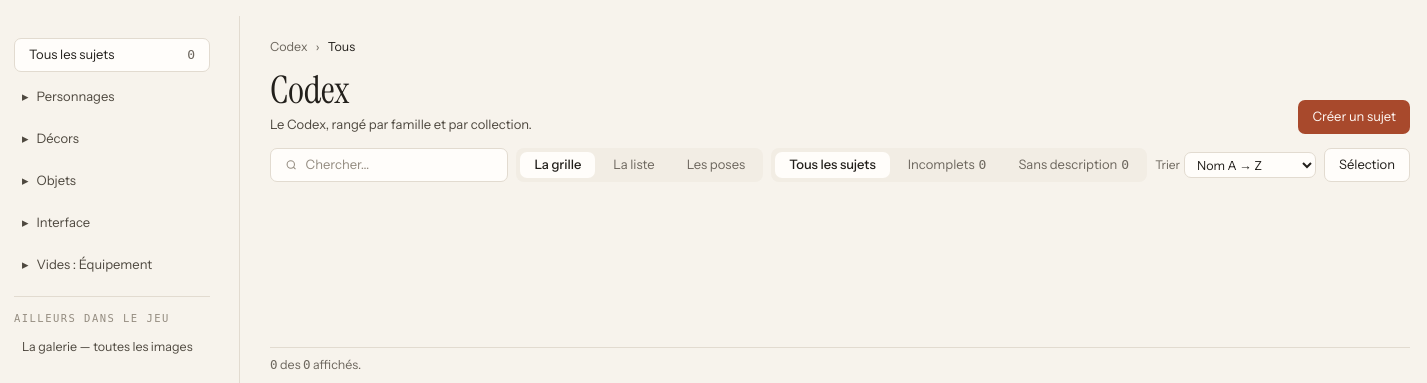
L’atelier unifié · bibliothèque et fabrications réelles › ne compte pas une page comme toute la famille et charge la suite
(page scrolled)
Click the tab "La liste" at (634,165), box [599,152,669,178]
(page scrolled)
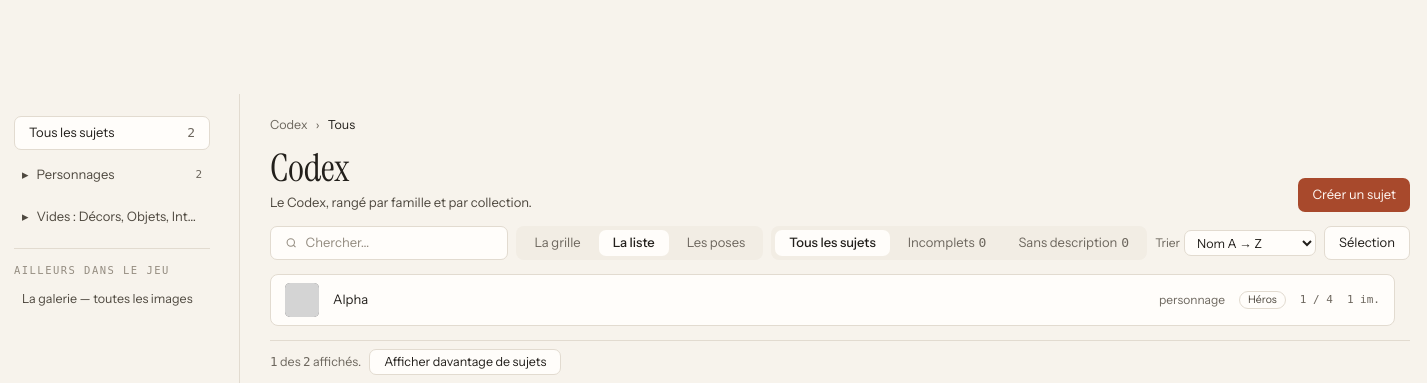
Expected: the text "1 des 2 affichés" is shown, [270,353,361,372]
Click the button "Afficher davantage de sujets" at (465,362), box [369,349,561,375]
(page scrolled)
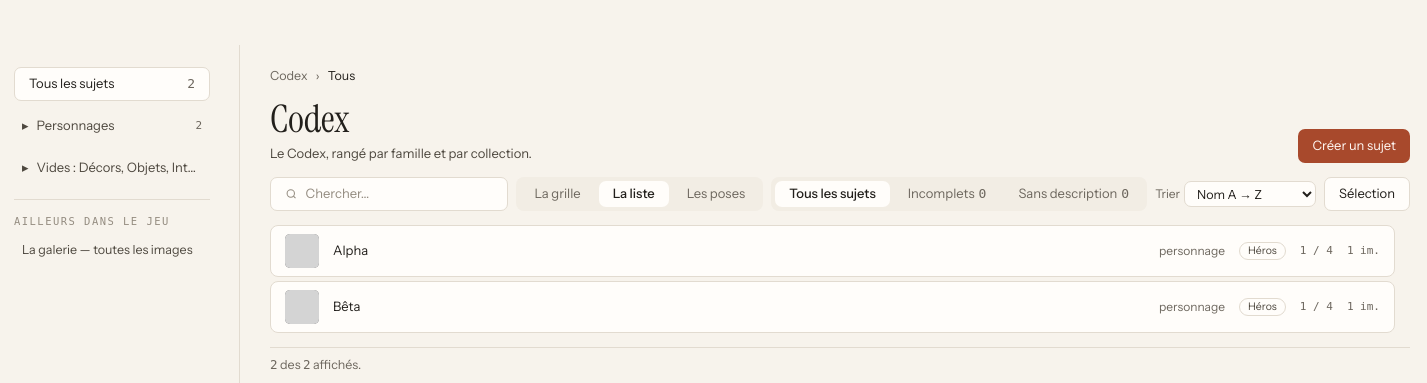
Expected: the text "Bêta" is shown, [333,298,360,314]
Expected: the button "Afficher davantage de sujets" is gone
